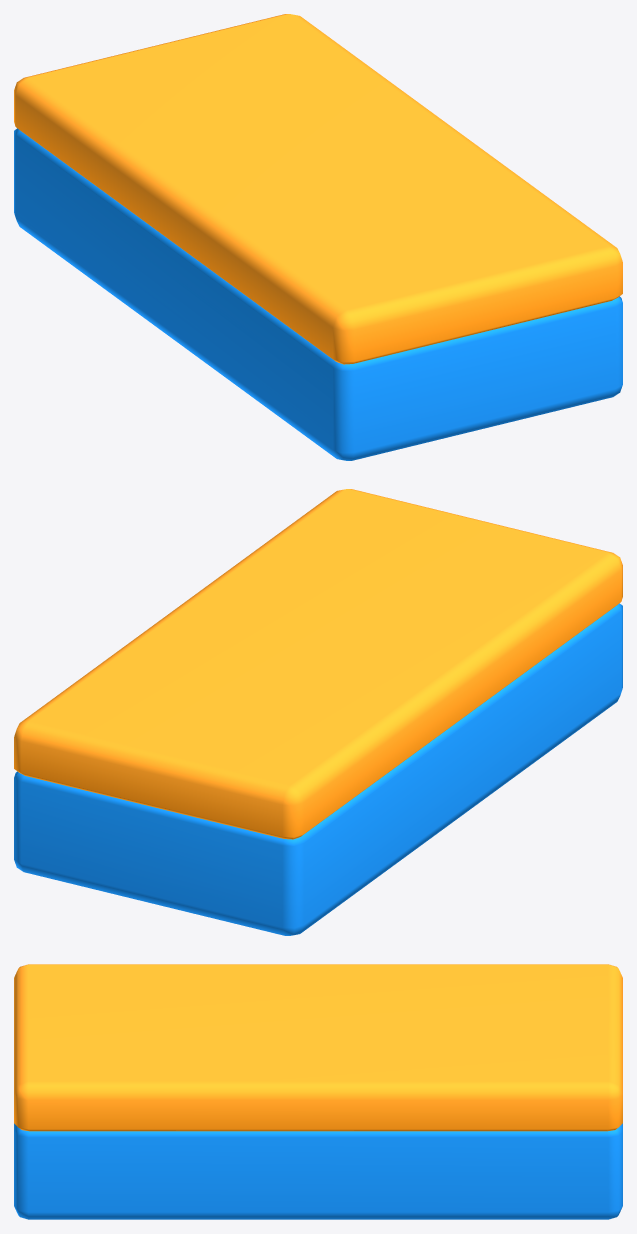
File: Platform_22.glb
3 views of the same model, one above another, from view 1: azimuth 30°, elevation 25°; view 2: azimuth 150°, elevation 25°; view 3: azimuth 270°, elevation 25° (orthographic). The views are drawn at different scales.
Parts seen in each view (by area): view 1: Platform_22; view 2: Platform_22; view 3: Platform_22.
Boxes of the visible parts, x1,y1,x2,y2 form: Platform_22: (14,14,622,460); Platform_22: (14,489,622,935); Platform_22: (14,964,622,1219).
Size of the model in its own units: 6 by 3 by 12.
Materials: 1 (1 with a texture image).
